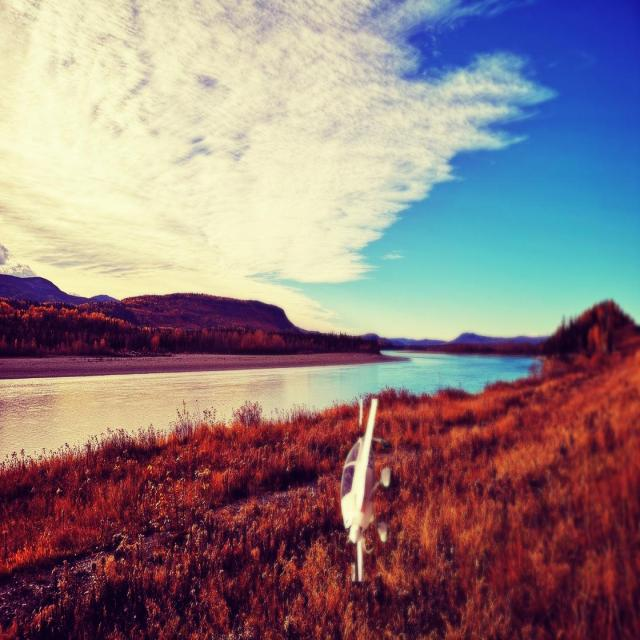airplane: (339, 396, 393, 582)
